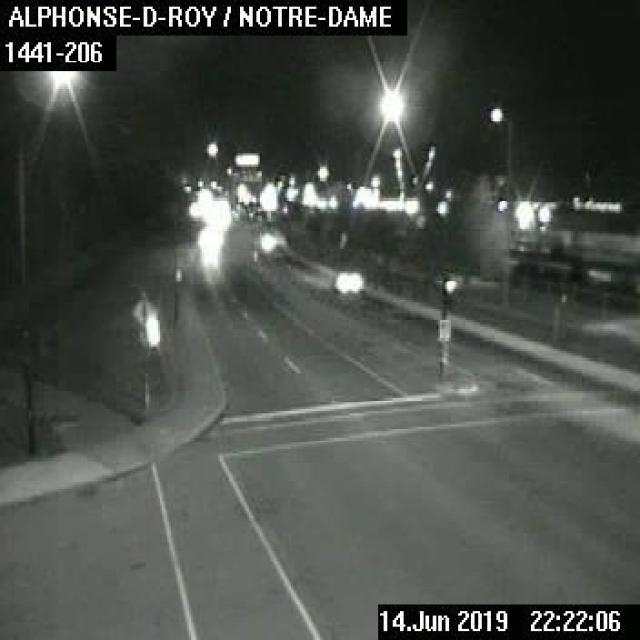vehicle: (329, 264, 362, 296), (258, 231, 282, 247)
